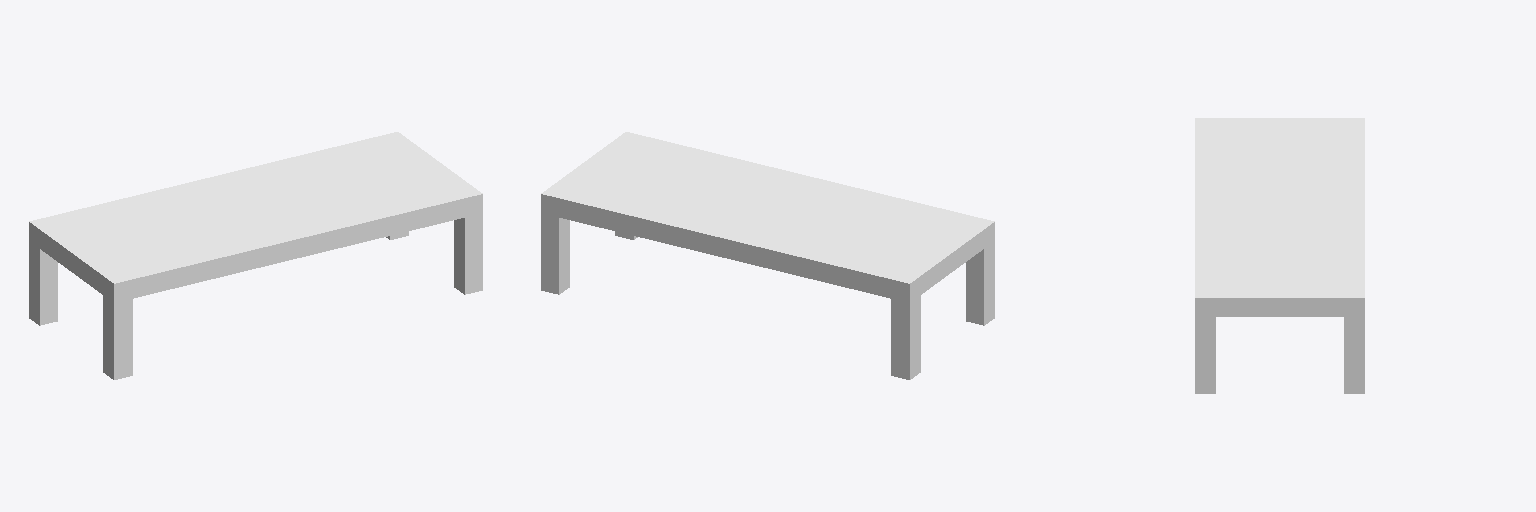
Rendered from -0-Mesa3.obj.
3 renders of one model, left to right at view 1: azimuth 30°, elevation 25°; view 2: azimuth 150°, elevation 25°; view 3: azimuth 270°, elevation 25°, orthographic.
Visible parts, largest first — view 1: Mesa3; view 2: Mesa3; view 3: Mesa3.
Part boxes in pixels (x1,y1,x2,y2): Mesa3: (29,132,482,379); Mesa3: (541,132,994,379); Mesa3: (1195,118,1364,393).
Bounding box in the file's own units: 2 × 0.5 × 0.8.